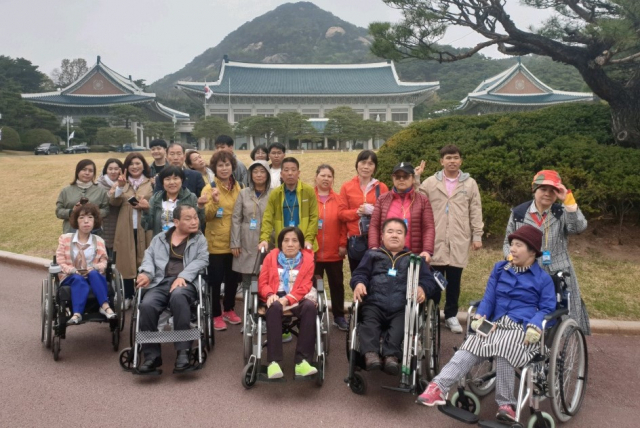wheelchair: (416, 224, 589, 428), (241, 228, 329, 389), (40, 203, 124, 361)
